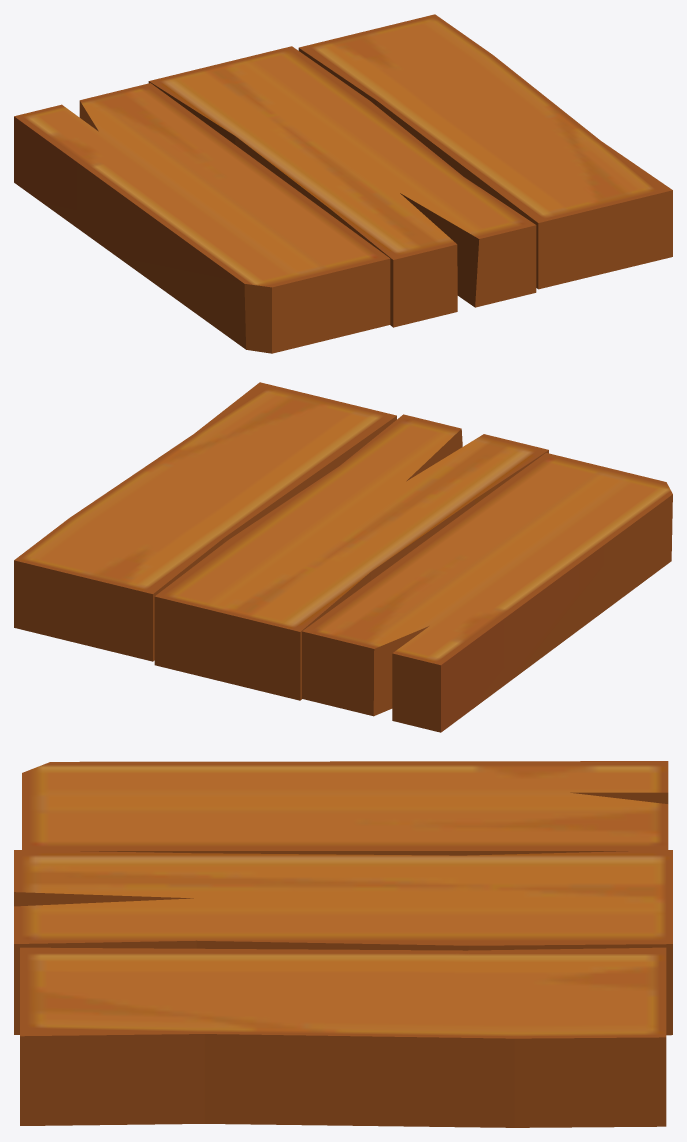
The model's file is diban.fbx.
3 views of the same model, one above another, from view 1: azimuth 30°, elevation 25°; view 2: azimuth 150°, elevation 25°; view 3: azimuth 270°, elevation 25° (orthographic). The views are drawn at different scales.
Visible parts, largest first — view 1: diban_01; view 2: diban_01; view 3: diban_01.
Part boxes in pixels (left/top/right/bottom): diban_01: left=14, top=14, right=672, bottom=353; diban_01: left=14, top=382, right=672, bottom=732; diban_01: left=14, top=761, right=672, bottom=1127.
Bounding box in the file's own units: 98.92 × 15.13 × 99.23.
